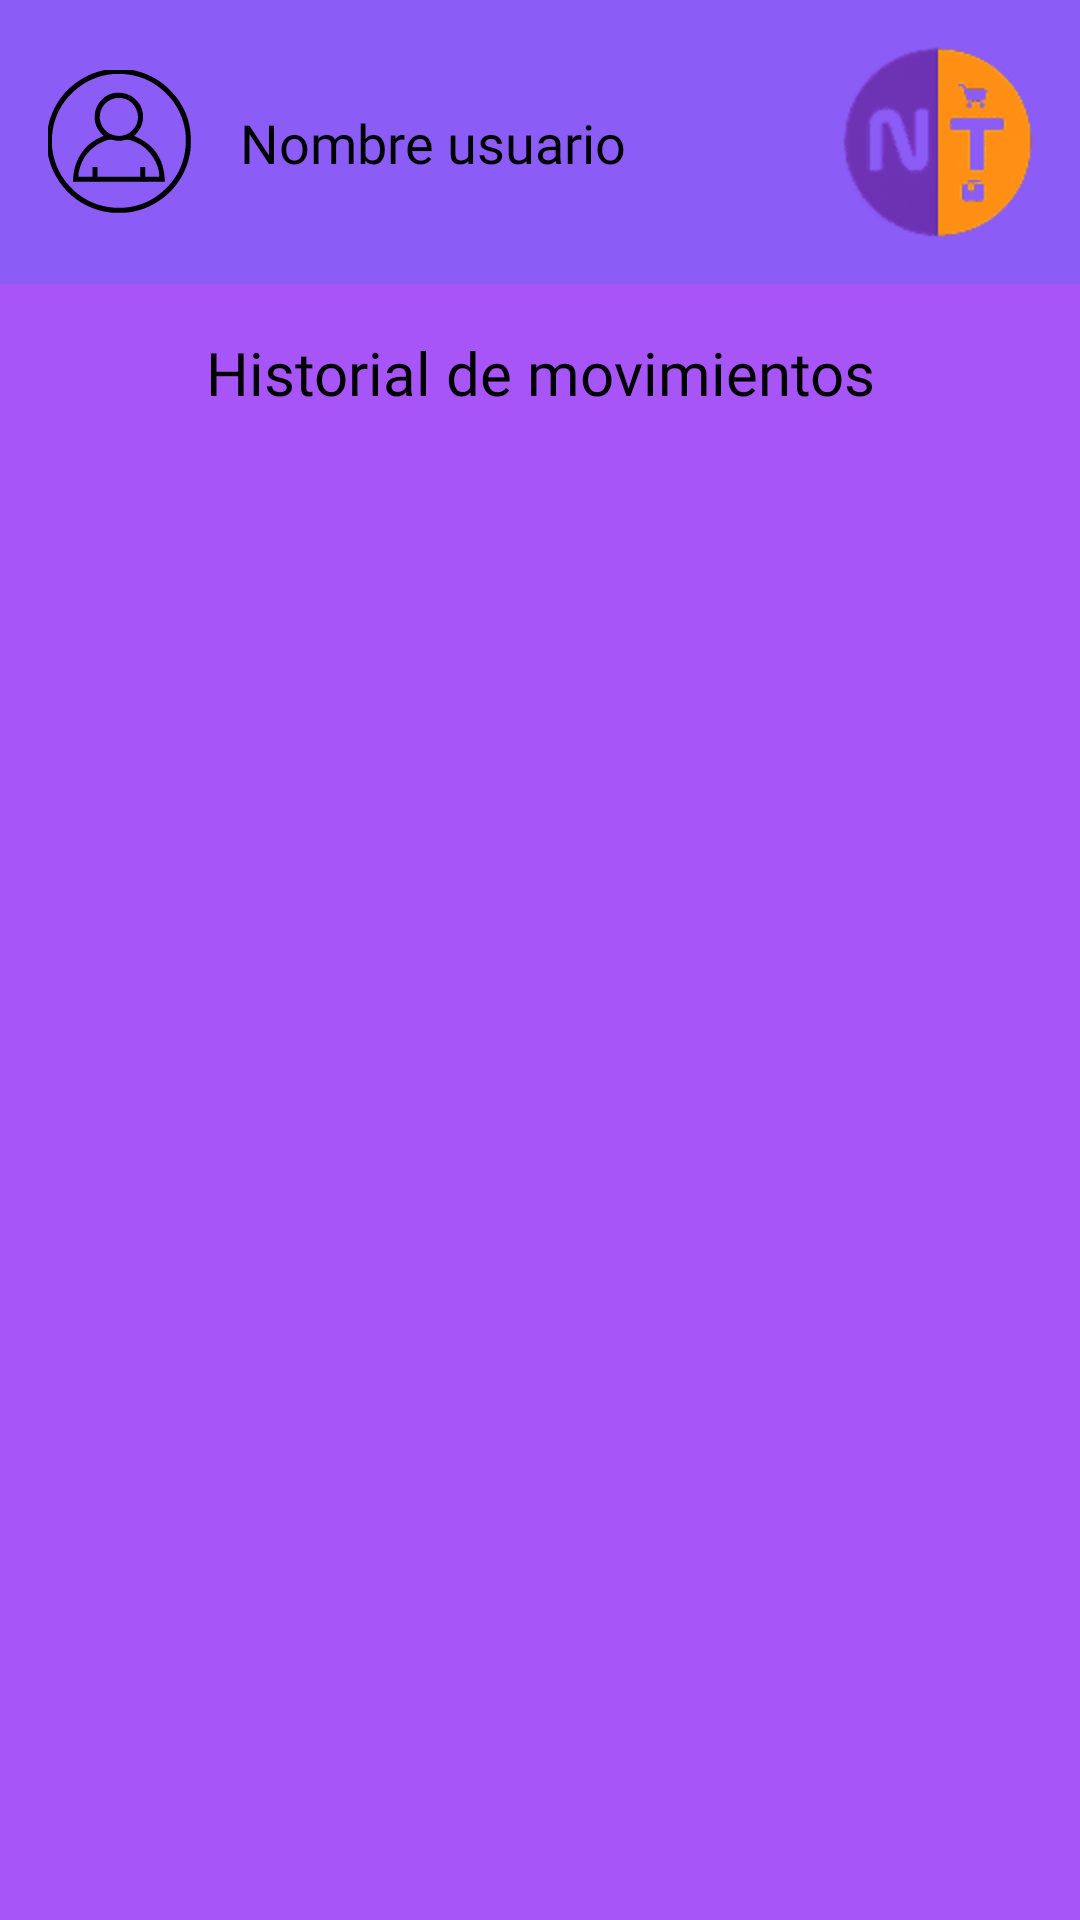

Where icons sit on this 1080x1920 app screen, as box(x1, y1, x2, y2):
iconperfil: box(48, 70, 191, 213)
